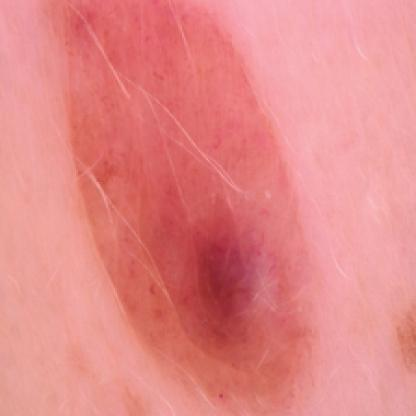benign: (56, 7, 328, 381)
